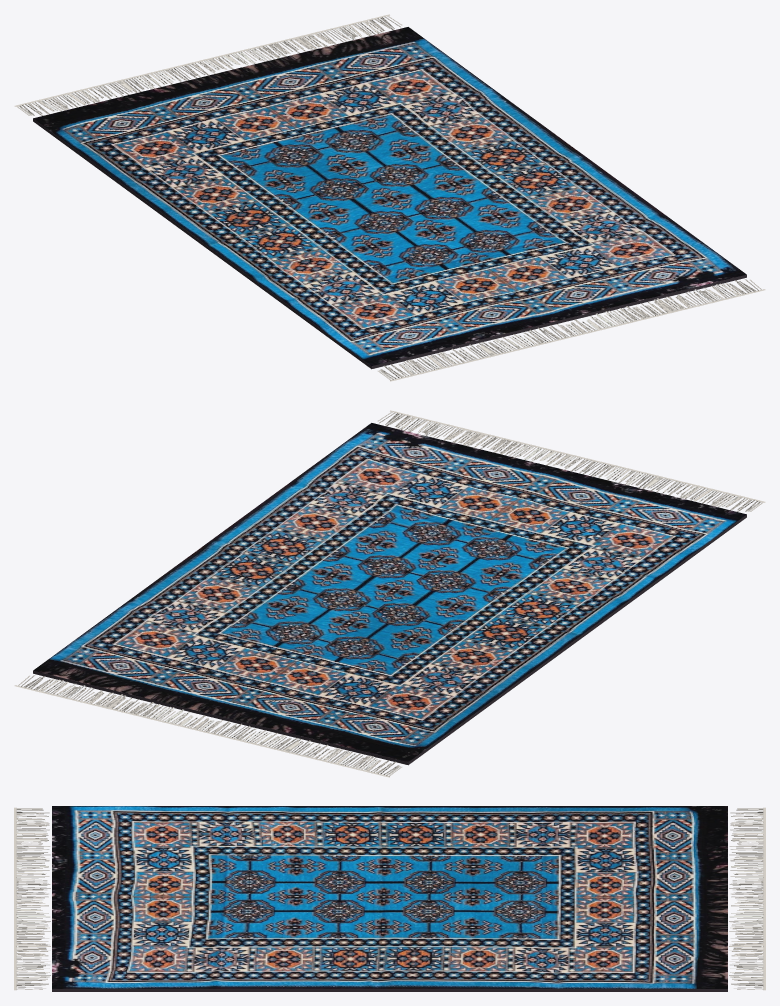
The picture shows the model from 3 angles, top to bottom: view 1: azimuth 30°, elevation 25°; view 2: azimuth 150°, elevation 25°; view 3: azimuth 270°, elevation 25°; orthographic projection.
Parts seen in each view (by area): view 1: rug, fringeB, fringeA, side; view 2: rug, fringeA, fringeB, side; view 3: rug, fringeA, fringeB, side.
Part boxes in pixels (left/top/right/bottom): rug: left=33, top=27, right=746, bottom=366; fringeB: left=378, top=279, right=765, bottom=381; fringeA: left=14, top=14, right=402, bottom=115; side: left=33, top=118, right=746, bottom=369; rug: left=33, top=423, right=746, bottom=762; fringeA: left=14, top=675, right=401, bottom=777; fringeB: left=377, top=410, right=765, bottom=511; side: left=33, top=514, right=746, bottom=765; rug: left=52, top=806, right=727, bottom=988; fringeA: left=729, top=807, right=765, bottom=990; fringeB: left=14, top=807, right=50, bottom=990; side: left=52, top=989, right=727, bottom=991.
Size of what is drawn, in the model's own units: 0.8 by 0.00614 by 1.39.
Materials: 2 (2 with a texture image).
